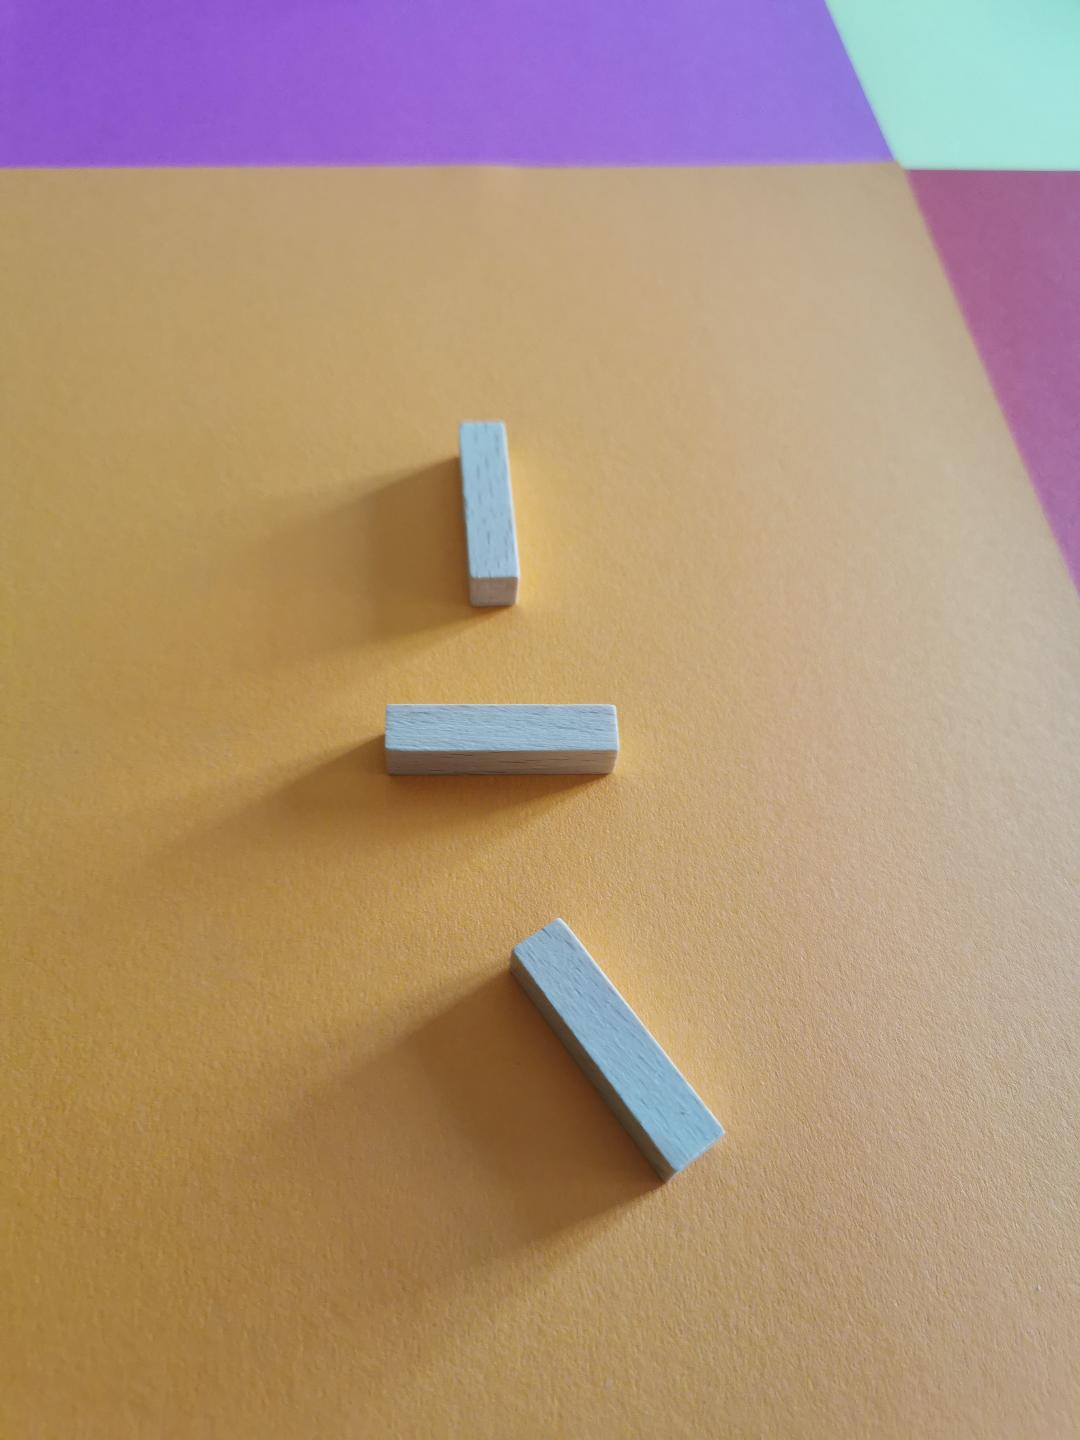jenga: (509, 920, 723, 1181), (386, 703, 618, 773), (458, 422, 521, 608)
